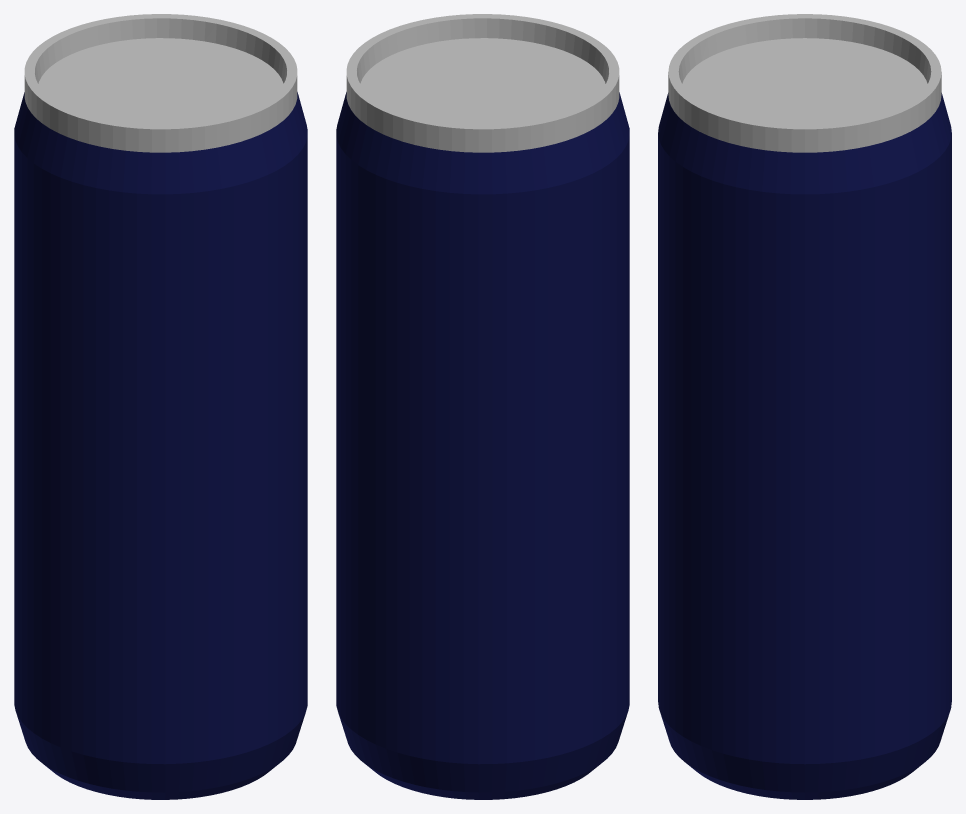
Rendered from orangina.obj.
The picture shows the model from 3 angles, left to right: view 1: azimuth 30°, elevation 25°; view 2: azimuth 150°, elevation 25°; view 3: azimuth 270°, elevation 25°; orthographic projection.
Parts seen in each view (by area): view 1: orangina; view 2: orangina; view 3: orangina.
Boxes of the visible parts, box(x1,y1,x2,y2) form: orangina: box(14, 14, 307, 799); orangina: box(336, 14, 629, 799); orangina: box(658, 14, 951, 799).
Size of the model in its own units: 0.057 by 0.145 by 0.057.
